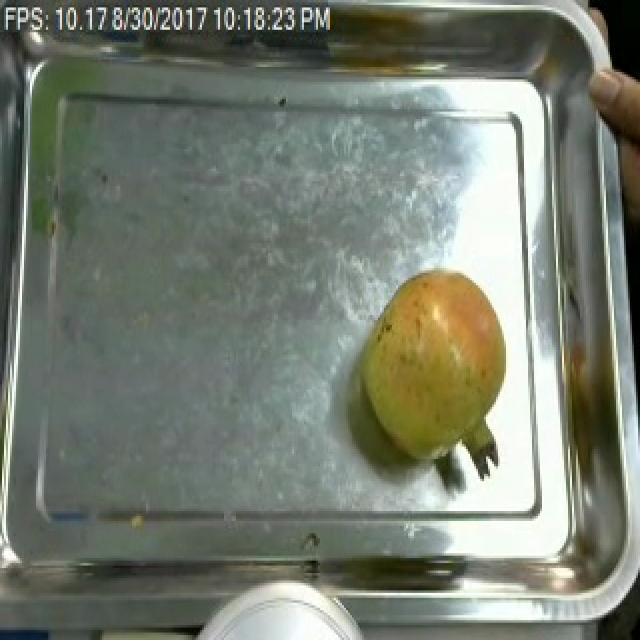fruit: (356, 260, 514, 477)
